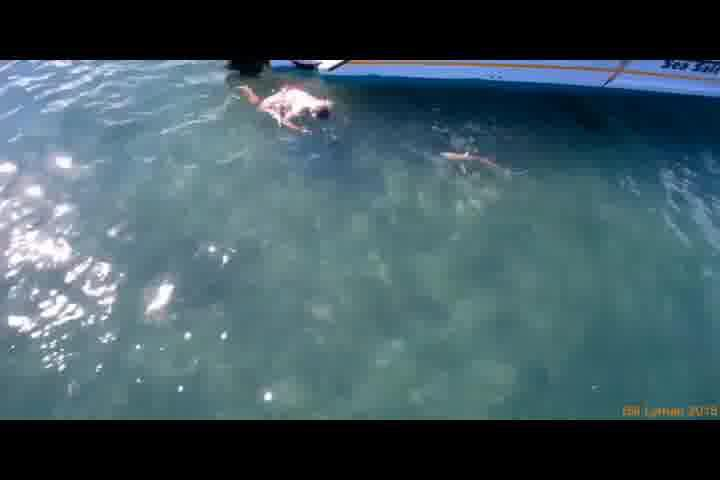human: (236, 83, 332, 136)
